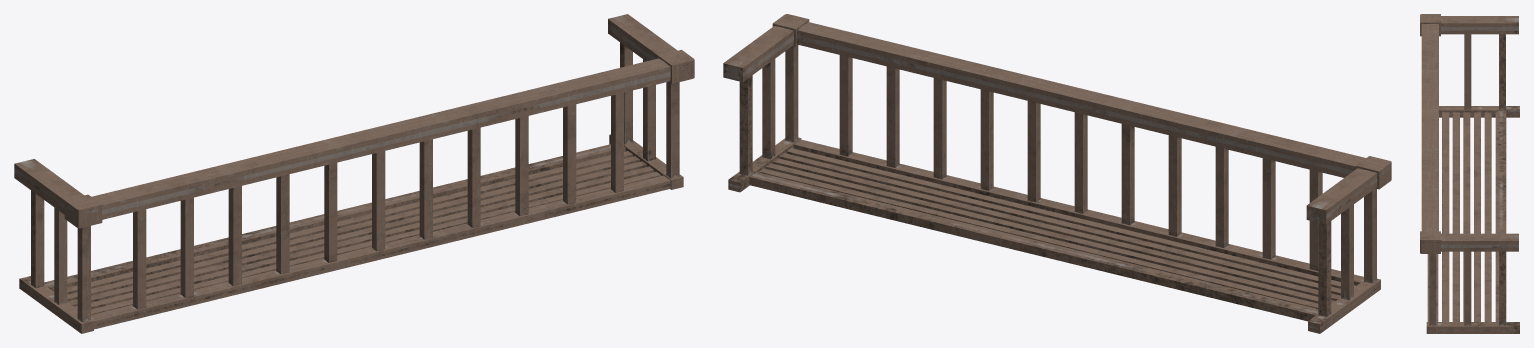
Rendered from WindowRailing_C.fbx.
3 renders of one model, left to right at view 1: azimuth 30°, elevation 25°; view 2: azimuth 150°, elevation 25°; view 3: azimuth 270°, elevation 25°, orthographic. The views are drawn at different scales.
Visible parts, largest first — view 1: WindowRailing_C; view 2: WindowRailing_C; view 3: WindowRailing_C.
Boxes of the visible parts, x1,y1,x2,y2 form: WindowRailing_C: (14, 14, 694, 333); WindowRailing_C: (723, 14, 1391, 333); WindowRailing_C: (1420, 14, 1519, 333).
Size of the model in its own units: 186 by 36.96 by 34.63.
Materials: 1 (1 with a texture image).
